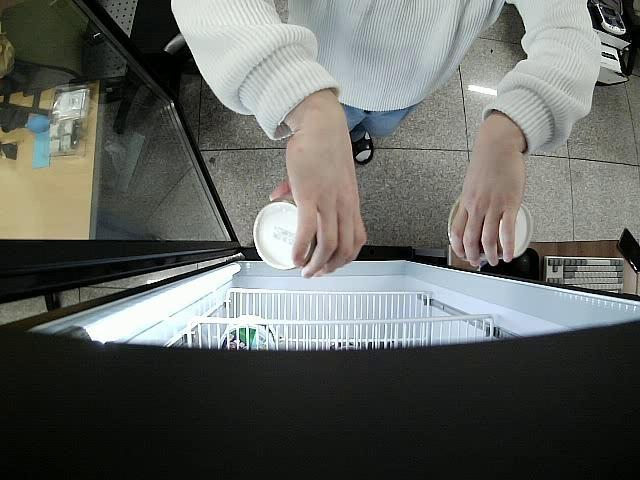04_chapagetti_S: (443, 190, 534, 260), (252, 191, 316, 271)
